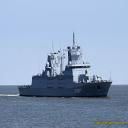Fragata: (19, 30, 115, 99)
